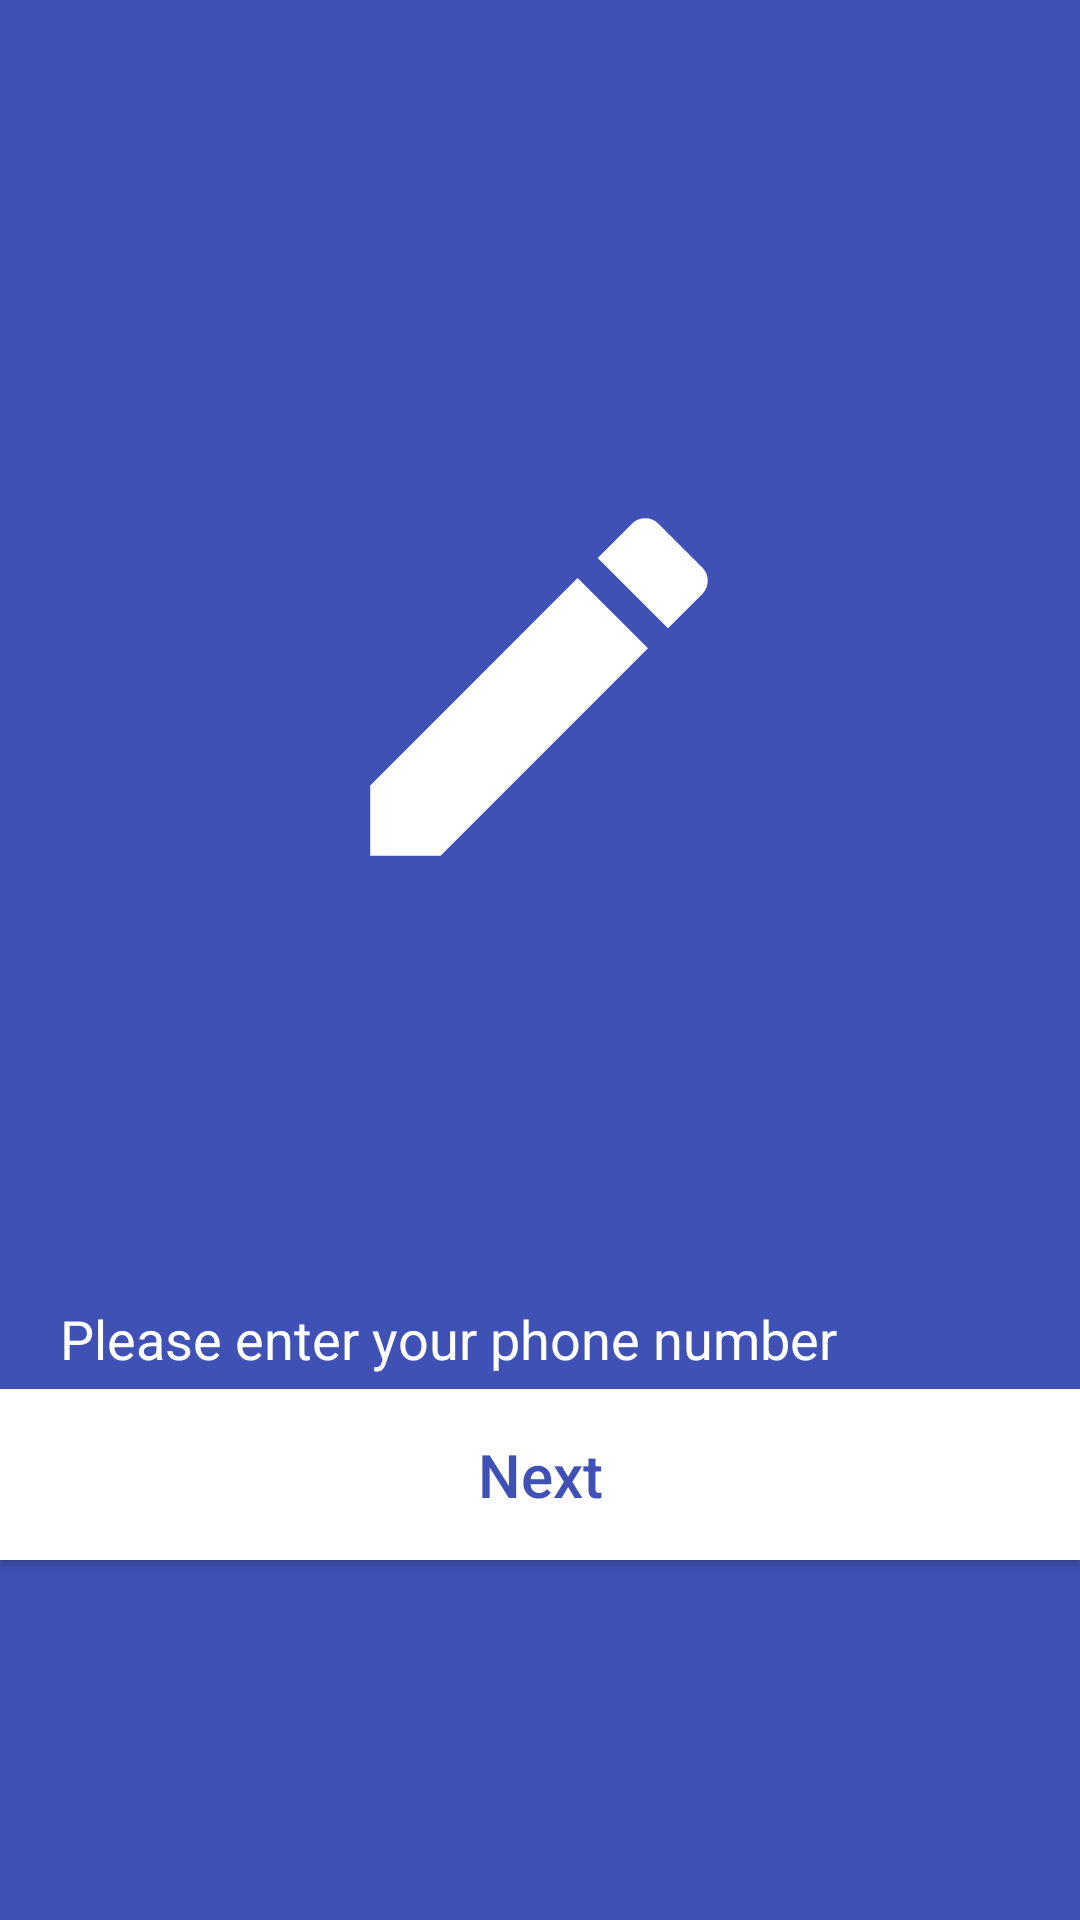

Where to tap for icons on this 1080x1920 app screen, as (x,y):
edit title: (539,687)
